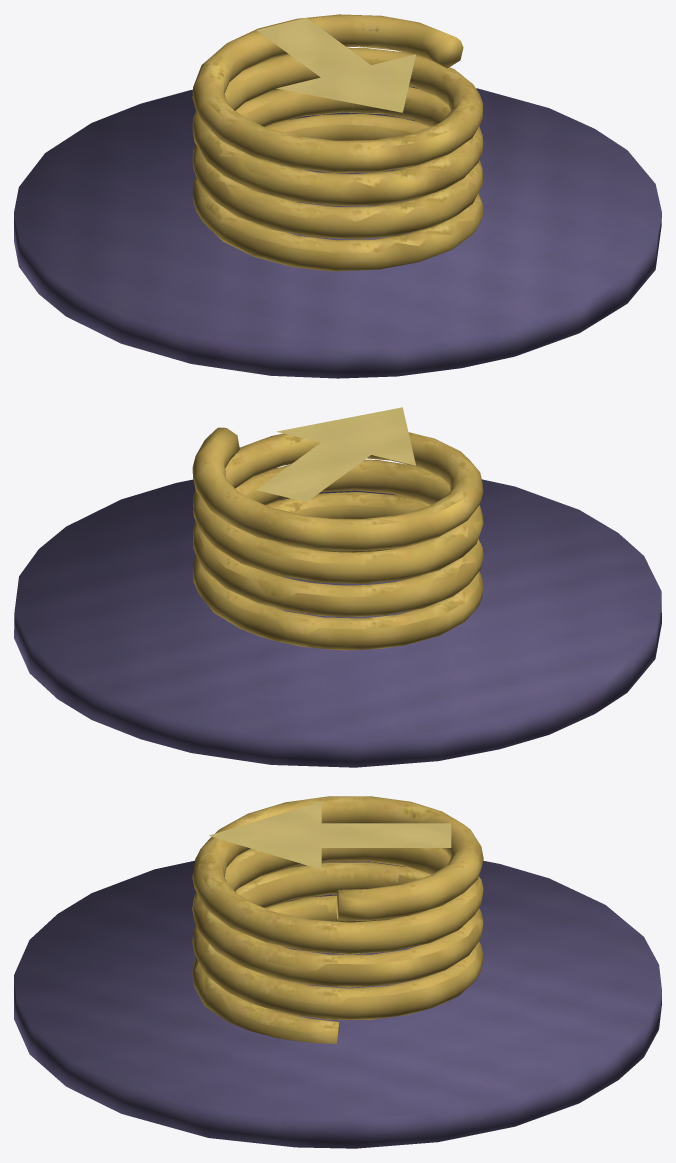
File: spring_pad.glb
The picture shows the model from 3 angles, top to bottom: view 1: azimuth 30°, elevation 25°; view 2: azimuth 150°, elevation 25°; view 3: azimuth 270°, elevation 25°; orthographic projection.
Parts seen in each view (by area): view 1: pad_base, spring, arrow; view 2: pad_base, spring, arrow; view 3: pad_base, spring, arrow.
Boxes of the visible parts, bbox=[...] form: pad_base: bbox=[14, 86, 661, 378]; spring: bbox=[192, 14, 483, 271]; arrow: bbox=[256, 18, 415, 112]; pad_base: bbox=[14, 468, 661, 767]; spring: bbox=[192, 427, 483, 650]; arrow: bbox=[256, 407, 415, 502]; pad_base: bbox=[14, 860, 661, 1148]; spring: bbox=[192, 796, 483, 1043]; arrow: bbox=[209, 801, 451, 869].
Bounding box in the file's own units: 4 × 1.2 × 4.
1 material, 1 textured.
